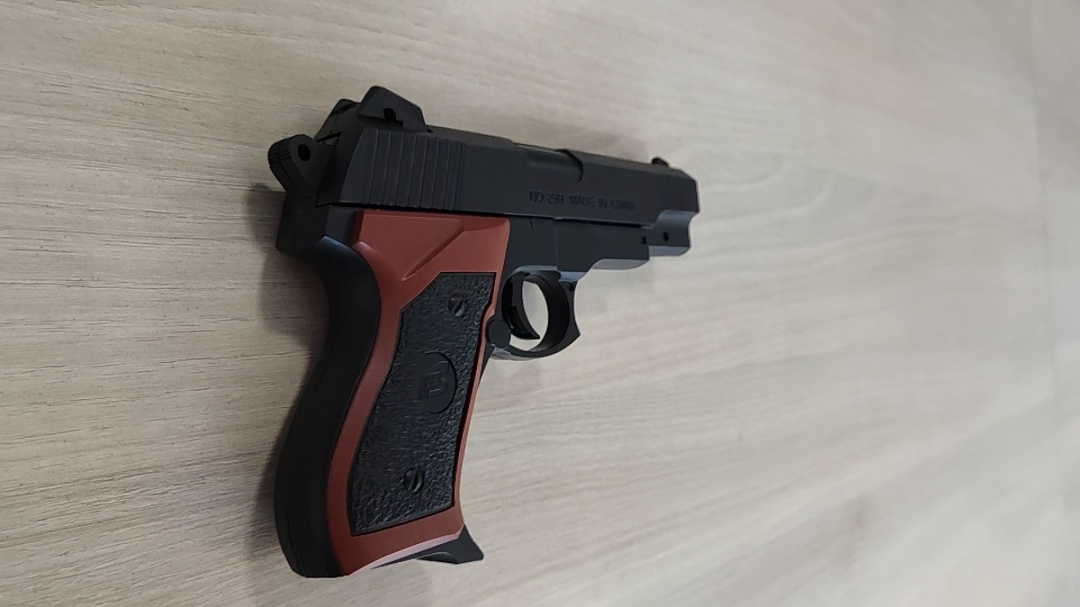gun: (260, 84, 704, 588)
